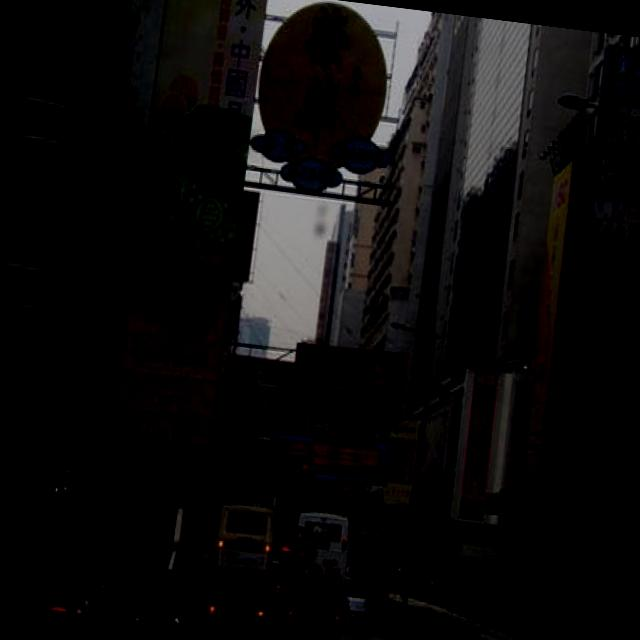Vehicle: (277, 510, 357, 640), (204, 500, 276, 635), (340, 594, 374, 634)
